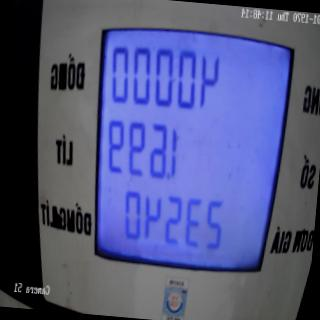screen: (77, 4, 300, 284)
